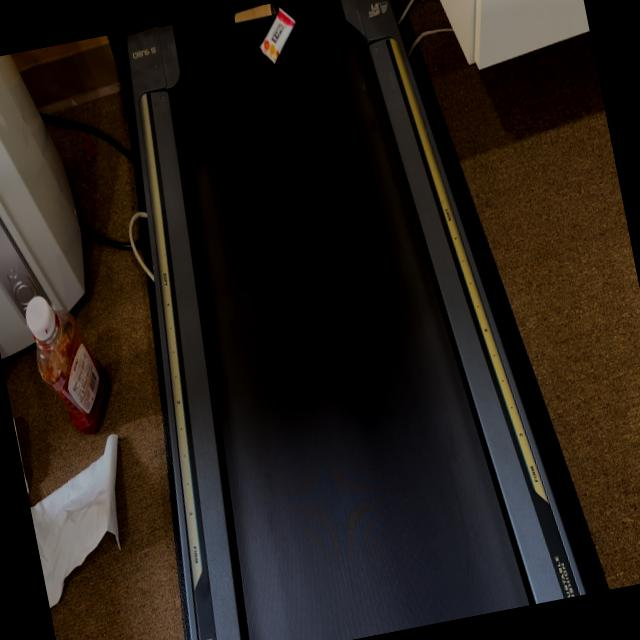Trash: (252, 5, 303, 68)
